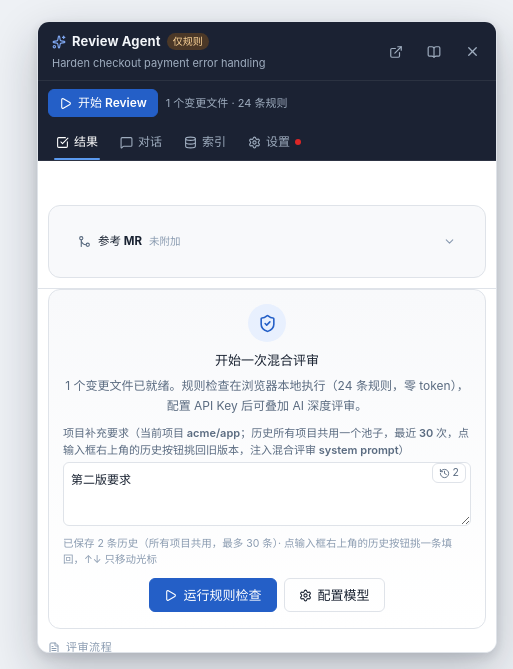
Test: 起始页项目补充要求历史 › 历史按钮标出全局池条数，展开后当前生效值被标成已选中
Expected: the text "开始一次混合评审" is shown, [215,352,319,368]
Expected: the button "开始 Review" is enabled, [48,89,158,117]
Click the button named "项目补充要求历史" at (449, 473), box [432,463,466,483]
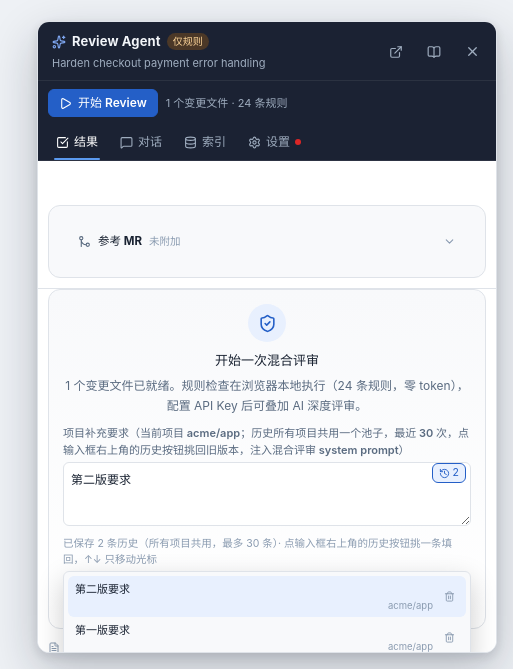
Result: the number of options is 2 at [68,576,466,617]; [68,617,466,652]
Click the button named "项目补充要求历史" at (449, 473), box [432,463,466,483]
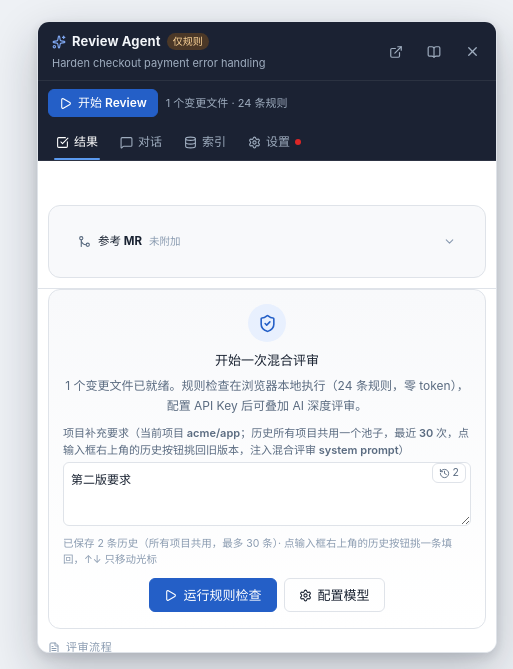
Result: the list is gone
